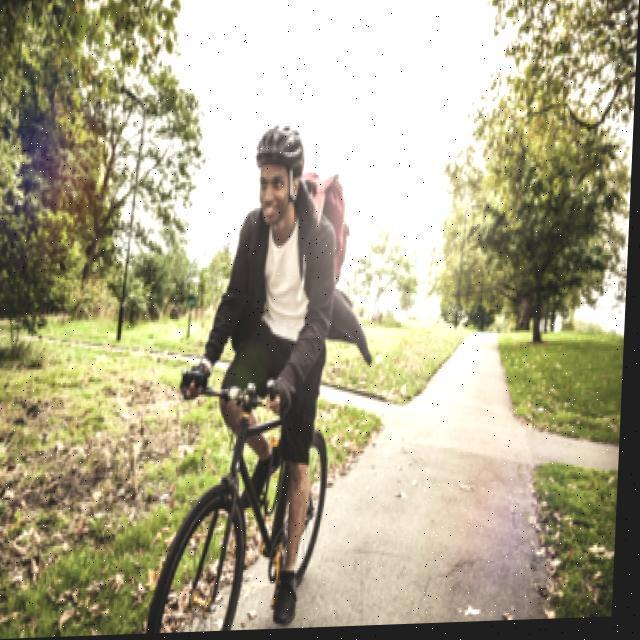Helmet: (252, 115, 309, 237)
